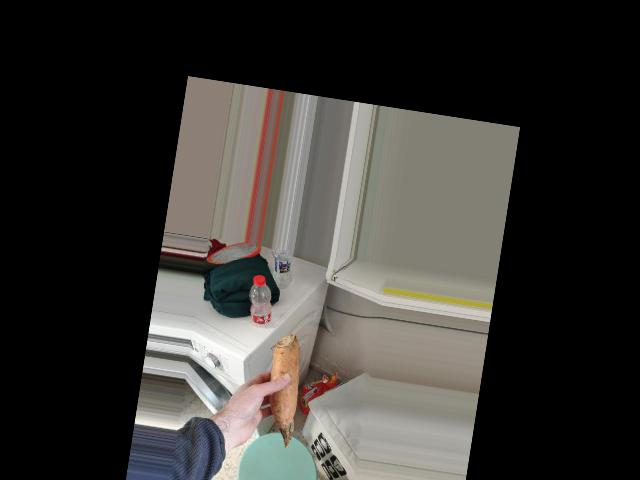sweet_potato: (257, 326, 304, 440)
